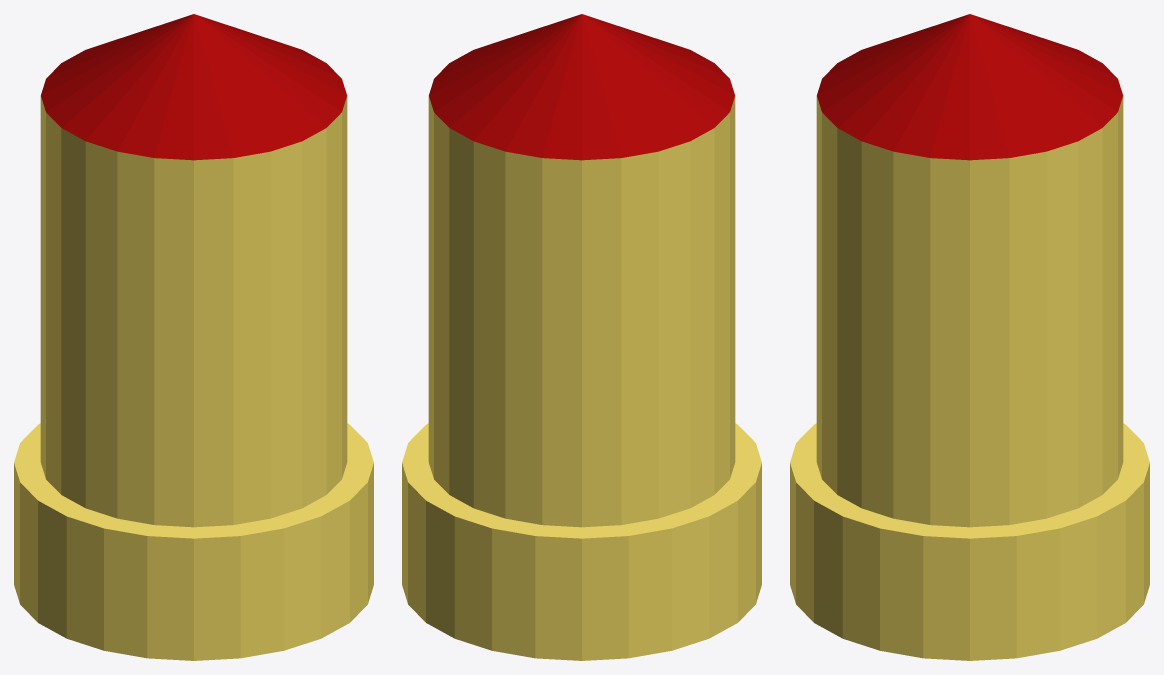
File: silo.fbx
The picture shows the model from 3 angles, left to right: view 1: azimuth 30°, elevation 25°; view 2: azimuth 150°, elevation 25°; view 3: azimuth 270°, elevation 25°; orthographic projection.
Visible parts, largest first — view 1: Silo; view 2: Silo; view 3: Silo.
Boxes of the visible parts, bbox=[...] form: Silo: bbox=[14, 14, 373, 660]; Silo: bbox=[402, 14, 761, 660]; Silo: bbox=[790, 14, 1149, 660].
Size of the model in its own units: 600 by 1050 by 600.
